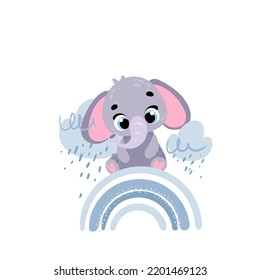elephant: (79, 75, 194, 175)
